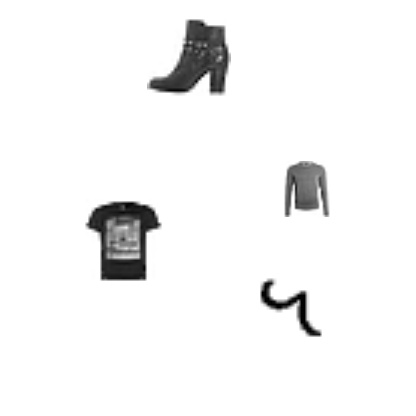4: (246, 264, 330, 348)
Ankle_boot: (147, 14, 231, 98)
Pullover: (279, 161, 335, 217)
T-shirt/top: (80, 199, 164, 283)
